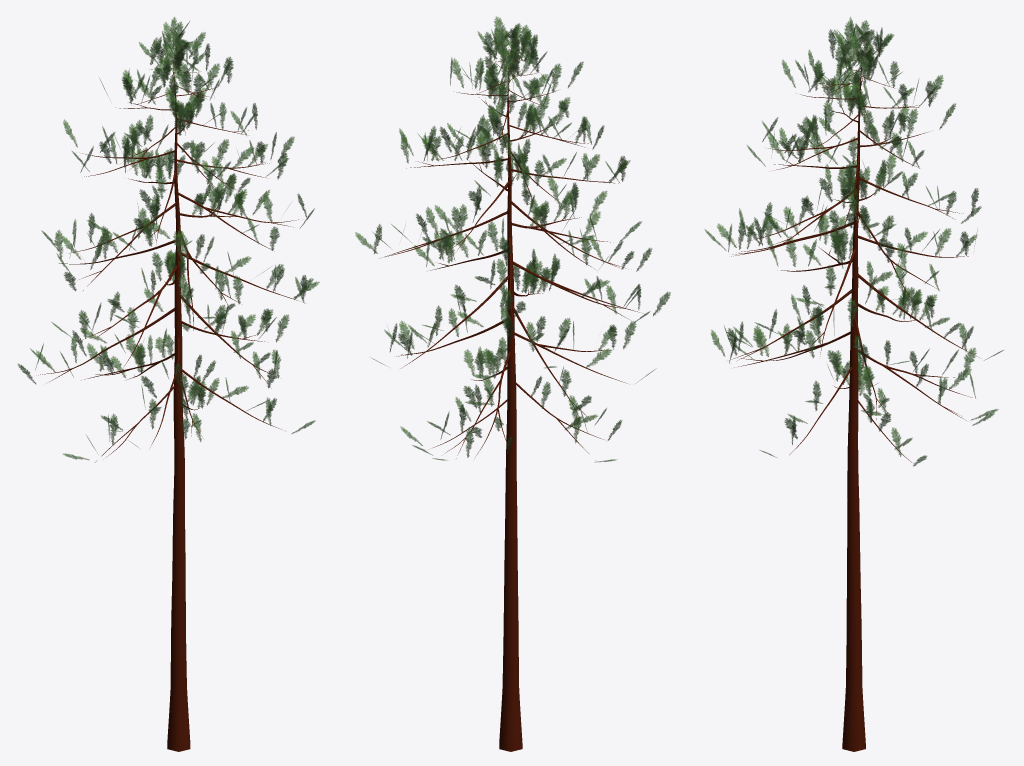
File: FirTree4.gltf
3 views of the same model, side by side, from view 1: azimuth 30°, elevation 25°; view 2: azimuth 150°, elevation 25°; view 3: azimuth 270°, elevation 25° (orthographic).
Visible parts, largest first — view 1: LeafSet019_2K_Color_A.320, tree; view 2: LeafSet019_2K_Color_A.320, tree; view 3: LeafSet019_2K_Color_A.320, tree.
Boxes of the visible parts, x1=… form: LeafSet019_2K_Color_A.320: x1=18, y1=17, x2=319, y2=460; tree: x1=38, y1=56, x2=298, y2=751; LeafSet019_2K_Color_A.320: x1=355, y1=16, x2=670, y2=462; tree: x1=380, y1=47, x2=643, y2=751; LeafSet019_2K_Color_A.320: x1=704, y1=17, x2=1003, y2=466; tree: x1=731, y1=40, x2=979, y2=751.
Size of the model in its own units: 5.52 by 14.68 by 5.6.
Materials: 2 (1 with a texture image).
